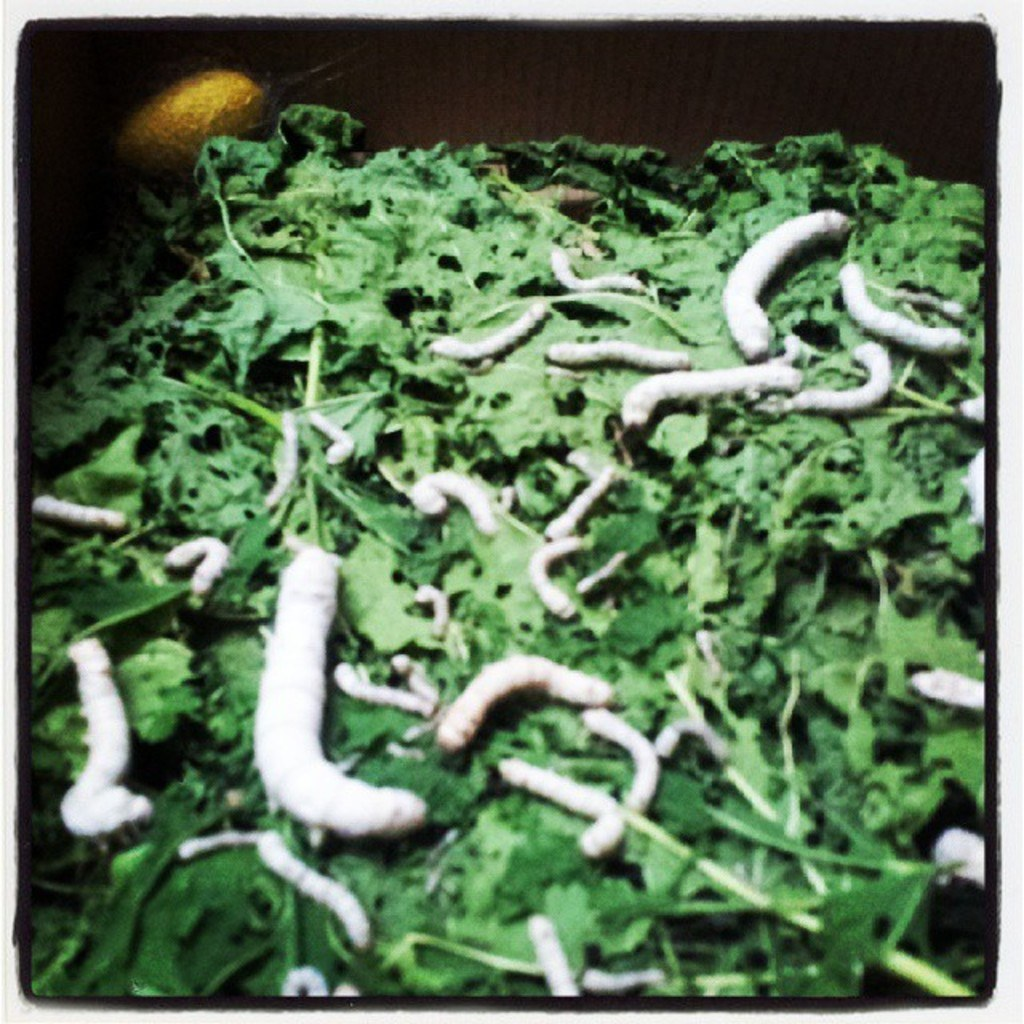insect: (24, 206, 997, 1005), (24, 200, 989, 994)
